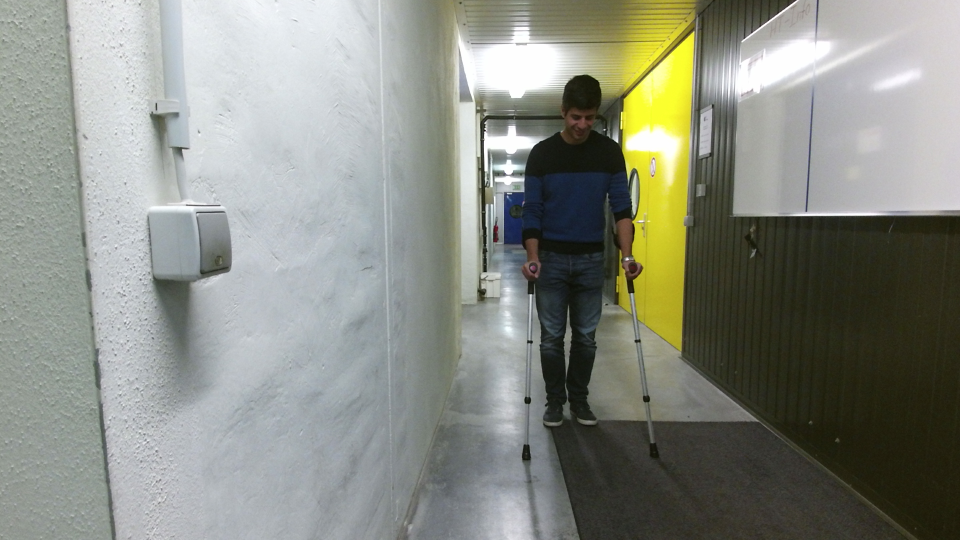crutches: (512, 68, 665, 464)
